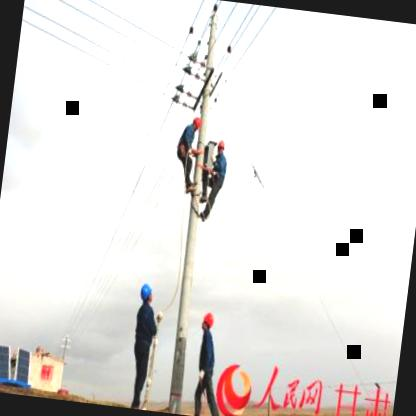helmet: (138, 278, 154, 306), (198, 310, 216, 334), (187, 112, 202, 134), (214, 136, 226, 158)
